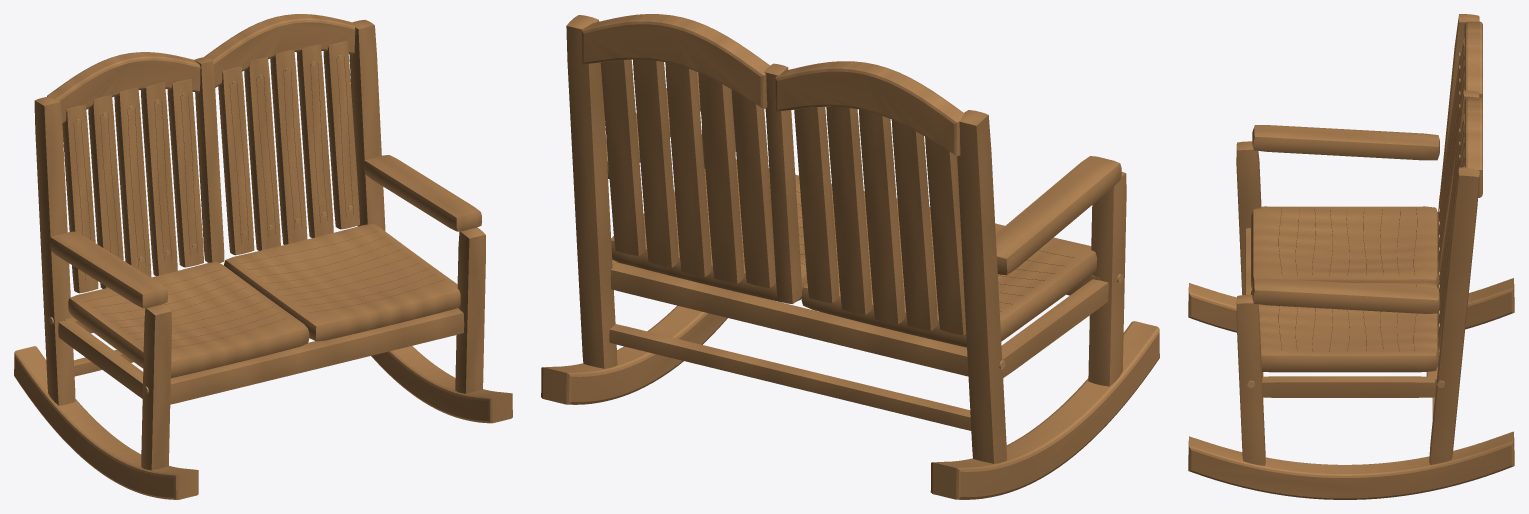
Rendered from bench.glb.
3 renders of one model, left to right at view 1: azimuth 30°, elevation 25°; view 2: azimuth 150°, elevation 25°; view 3: azimuth 270°, elevation 25°, orthographic. The views are drawn at different scales.
Parts seen in each view (by area): view 1: chapter-2; view 2: chapter-2; view 3: chapter-2.
Part boxes in pixels (x1,y1,x2,y2): chapter-2: (14, 14, 512, 499); chapter-2: (541, 14, 1159, 499); chapter-2: (1188, 14, 1514, 499).
Bounding box in the file's own units: 2 × 1.93 × 1.65.
